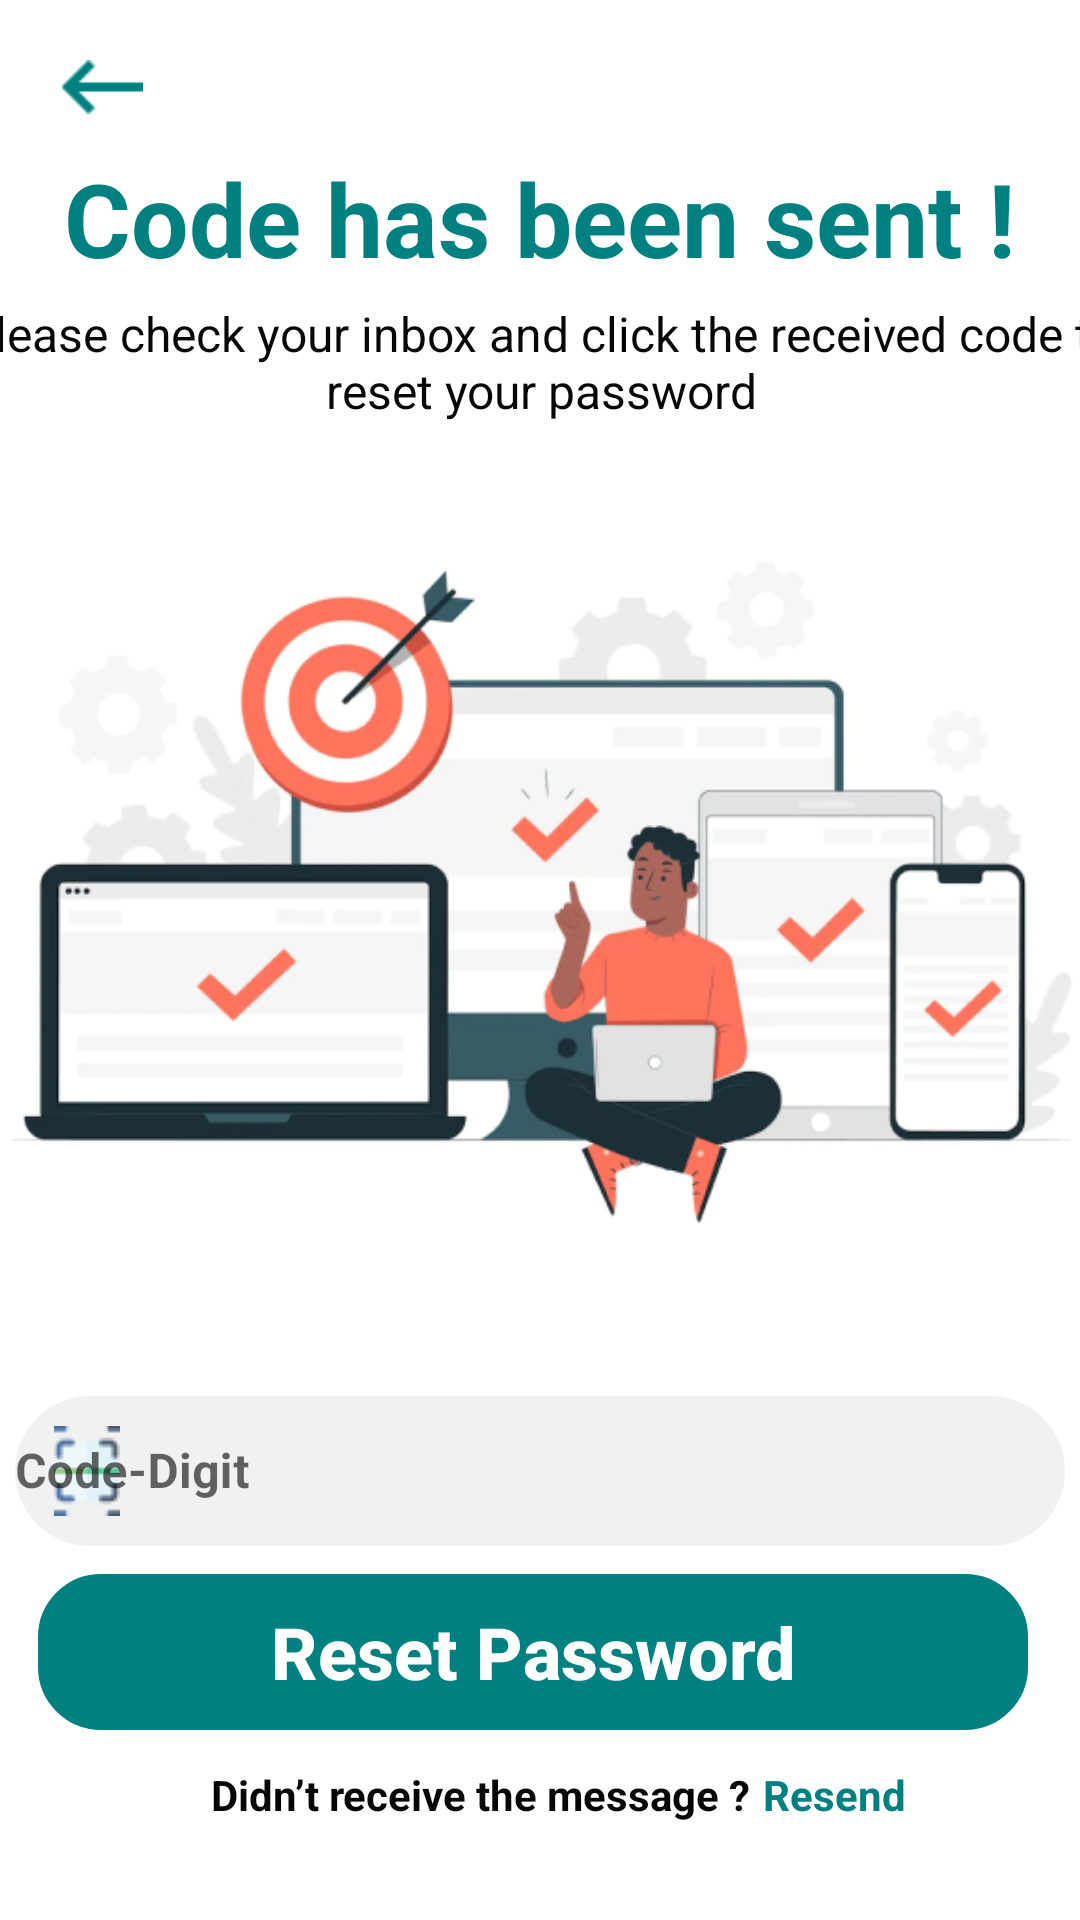

Screen size 1080x1920. Icon name, then its box in pixels as {"left": x1, "top": y1, "right": x2, "bottom": y2}:
greenback: {"left": 62, "top": 60, "right": 143, "bottom": 114}
